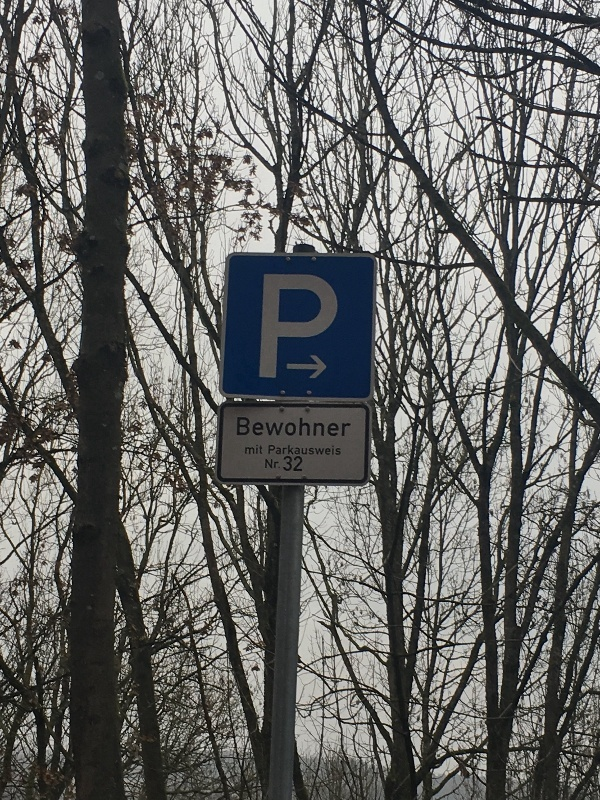text: (273, 274, 288, 380), (289, 274, 304, 380), (305, 274, 320, 380), (321, 274, 336, 380), (265, 274, 272, 380), (241, 416, 256, 437), (257, 416, 272, 437), (273, 416, 288, 437), (289, 416, 304, 437), (305, 416, 320, 437), (321, 416, 336, 437), (337, 416, 352, 437), (289, 456, 303, 472), (273, 444, 288, 456), (289, 444, 304, 456), (305, 444, 320, 456), (321, 444, 336, 456), (245, 444, 256, 455), (337, 274, 338, 380), (273, 458, 281, 470), (266, 458, 272, 470), (257, 444, 263, 455), (284, 456, 288, 472), (237, 416, 240, 437), (337, 444, 342, 456), (268, 444, 272, 456), (353, 416, 355, 437)
